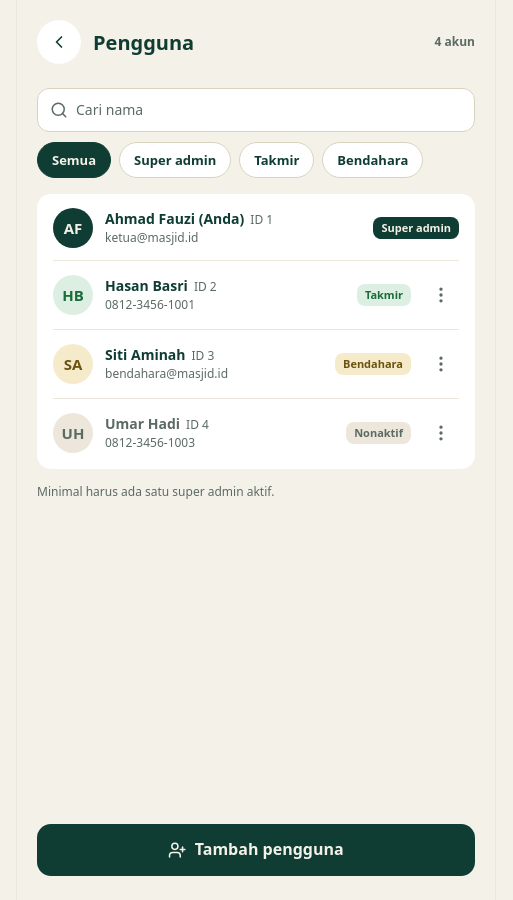
Test: UsersPage › filters by name and by role
In the search field named "Cari pengguna": (273, 110) [76,100,470,120], type "siti"
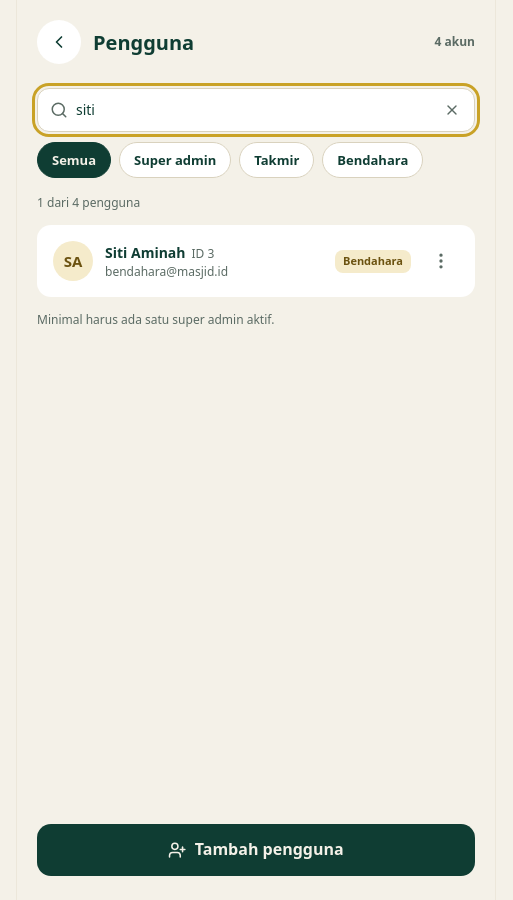
Now the number of list items is 1, box [53,227,459,295]
Now the text "1 dari 4 pengguna" is shown, box [37,194,140,211]
Click the button named "Hapus pencarian": (452, 110) [434,92,470,128]
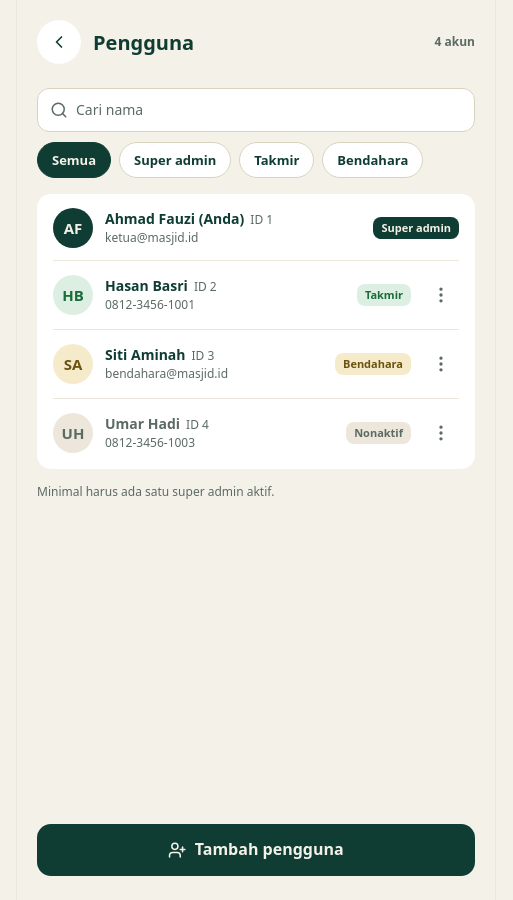
Click the button "Takmir": (277, 160) [239,142,314,178]
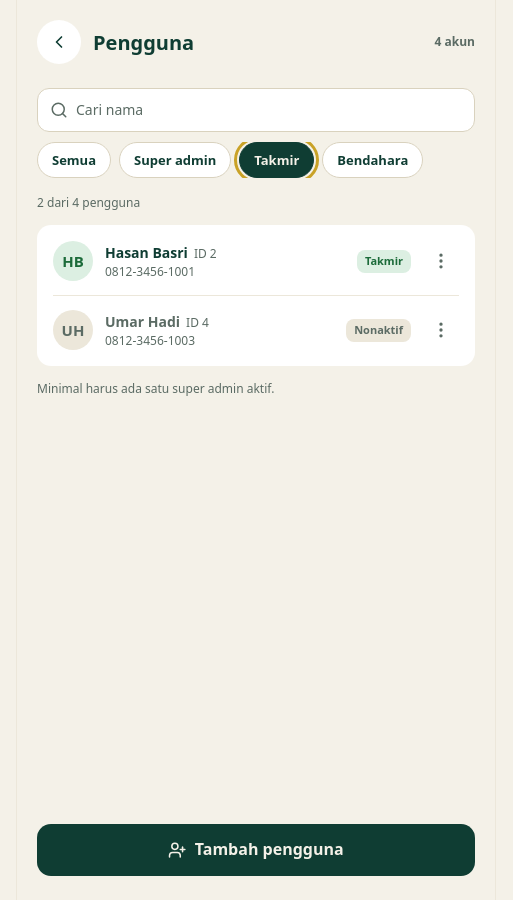
Now the list item that starts with "Hasan Basri" is shown, box [105,242,188,262]
Now the list item that starts with "Umar Hadi" is shown, box [105,312,180,330]
Now the number of list items is 2, box [53,227,459,296]; [53,296,459,364]
